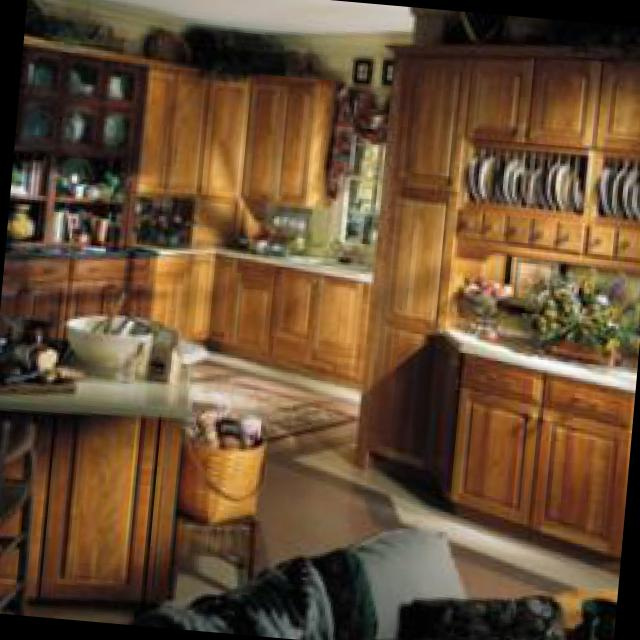2001: (342, 135, 390, 247)
armchair: (131, 529, 487, 640)
basket crop: (178, 436, 270, 523)
books crop: (23, 158, 48, 191)
bottle crop: (159, 199, 173, 244), (173, 205, 187, 242)
bouquet: (524, 268, 640, 362), (465, 273, 509, 340)
box contants: (150, 328, 181, 377)
bread box: (3, 333, 64, 368)
cabinet door: (0, 408, 185, 616)
cabinets: (358, 43, 640, 480), (430, 338, 635, 564), (158, 248, 376, 384), (138, 57, 338, 204), (10, 39, 147, 245), (1, 254, 155, 350)
ceiling beam: (113, 0, 420, 29)
chair -occluded-: (0, 413, 39, 610)
china cabinet: (21, 41, 149, 161)
counter bottom: (9, 239, 376, 280), (0, 342, 193, 416), (447, 326, 638, 387)
curtain crop: (326, 85, 393, 196)
knife holder: (6, 360, 70, 379)
large bowl: (69, 310, 159, 375)
mug: (581, 593, 617, 640)
painting crop: (502, 256, 564, 313), (356, 55, 376, 77), (386, 55, 398, 81)
pillow occluded: (400, 592, 564, 640)
plant -x: (185, 21, 295, 77)
plate food: (63, 154, 97, 190)
plates: (470, 151, 584, 207), (601, 164, 640, 212)
rack: (276, 204, 317, 252)
rug -partially obscured-: (188, 356, 363, 465)
shelves crop: (10, 153, 135, 245)
sink basin: (291, 254, 375, 271)
small table part: (170, 501, 267, 598), (552, 581, 618, 640)
vase -X: (10, 201, 40, 236), (145, 27, 180, 54)
